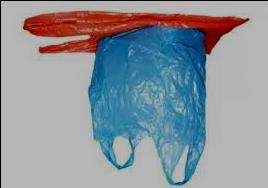Plastic: (93, 18, 214, 184), (20, 1, 241, 57)
